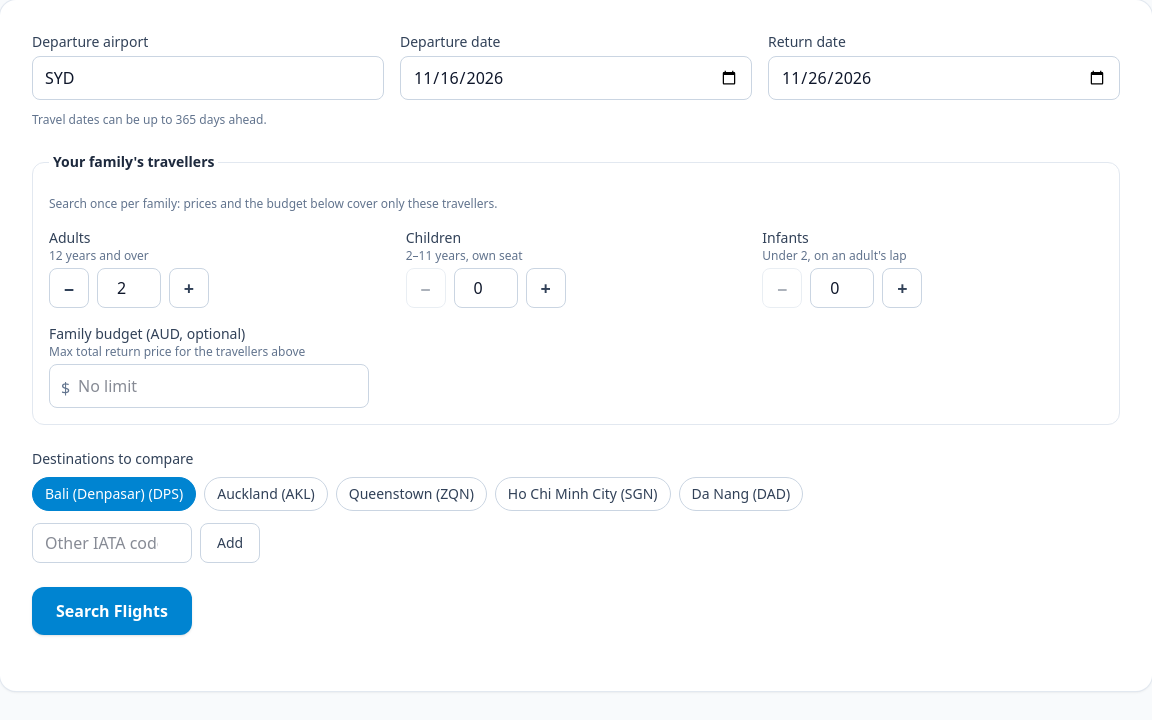
Test: SearchForm › rejects a well-formed code that isn't a known airport
The image size is (1152, 720).
Type "XYZ" into the field named "Other destination IATA code" at (112, 543), box [32,523,192,563]
Then press Enter
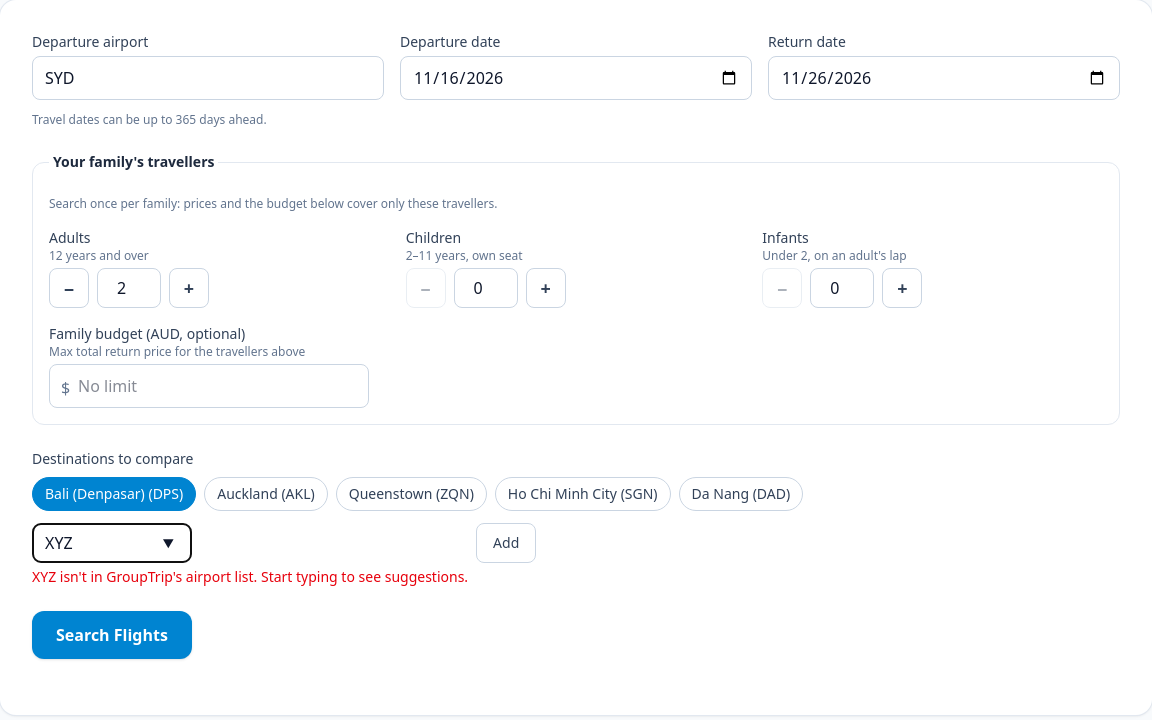
Now the text "XYZ isn't in GroupTrip's airport list" is shown, box [32,567,468,586]
